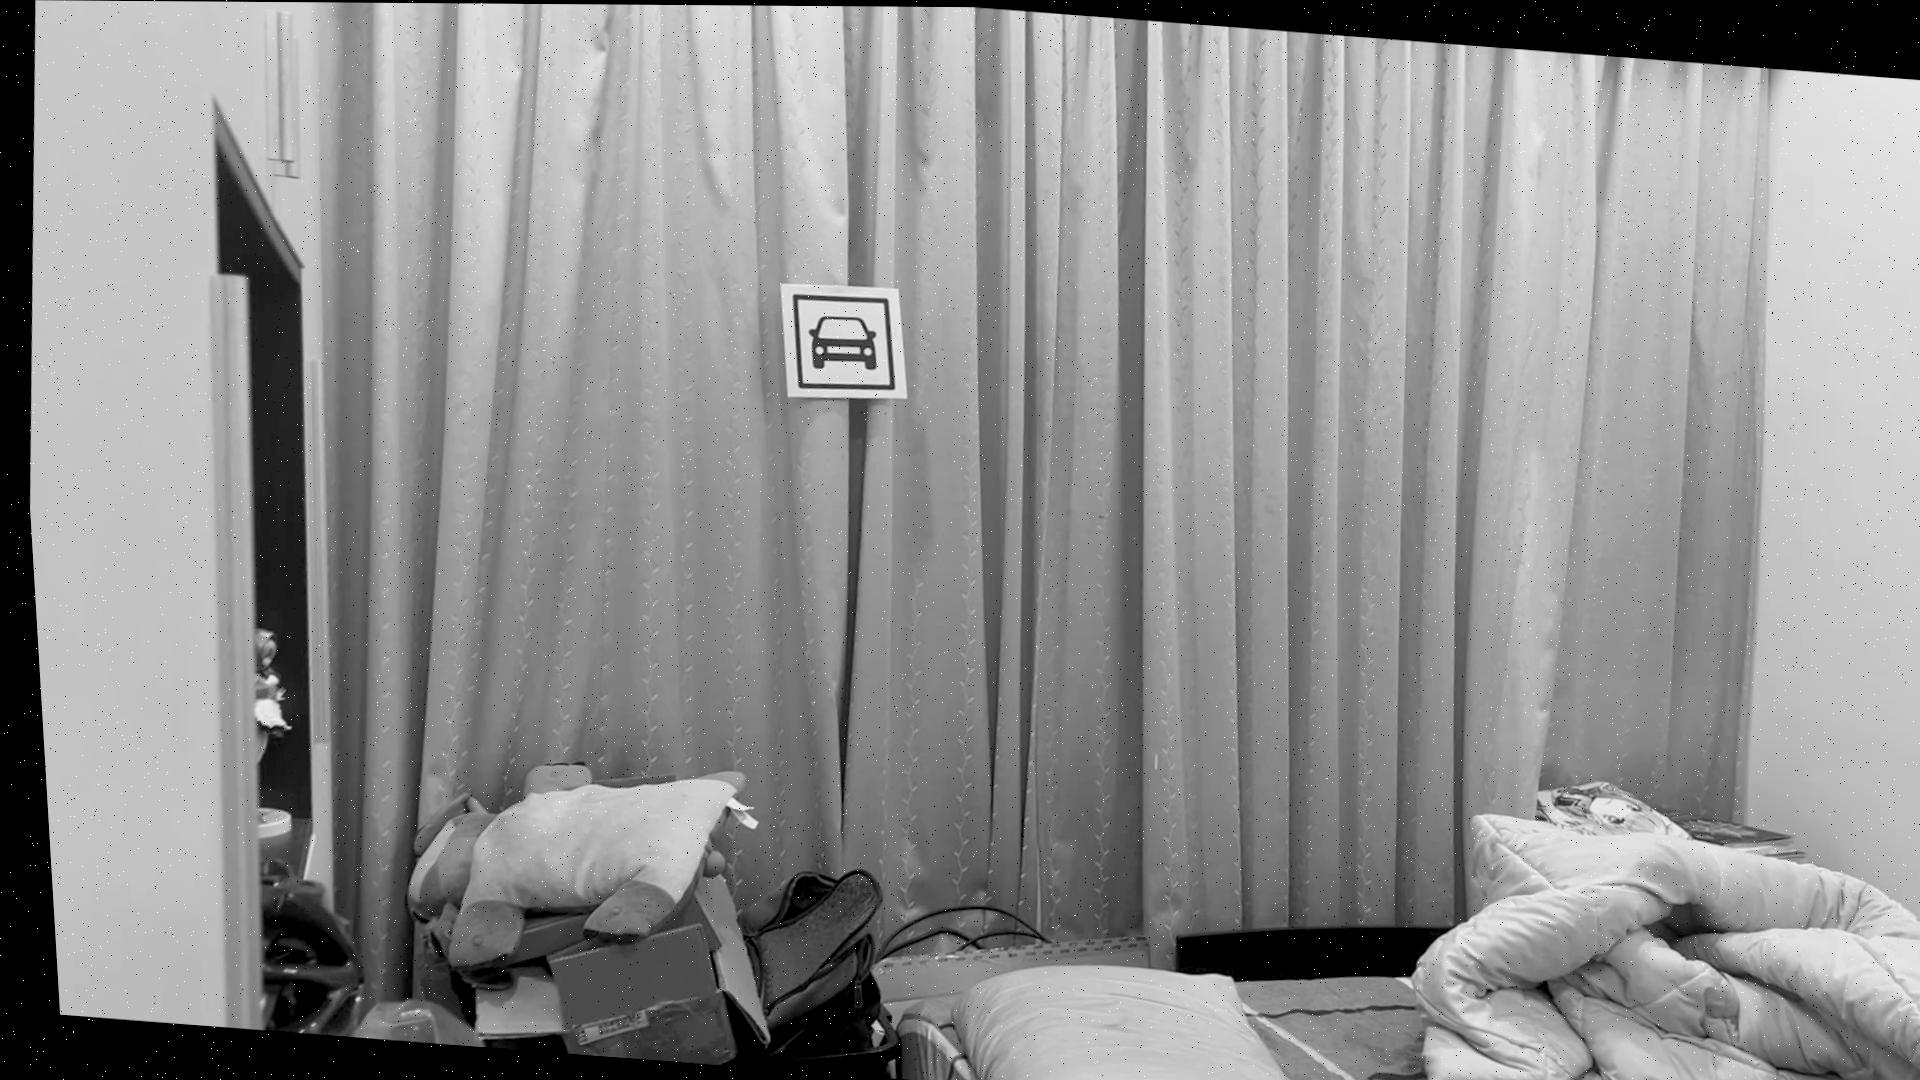car_img: (779, 287, 899, 396)
